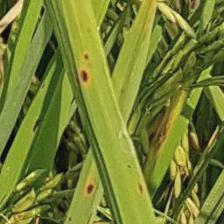0 BrownSpot: (73, 68, 93, 84), (84, 179, 98, 198), (137, 181, 150, 197), (79, 50, 90, 59)
